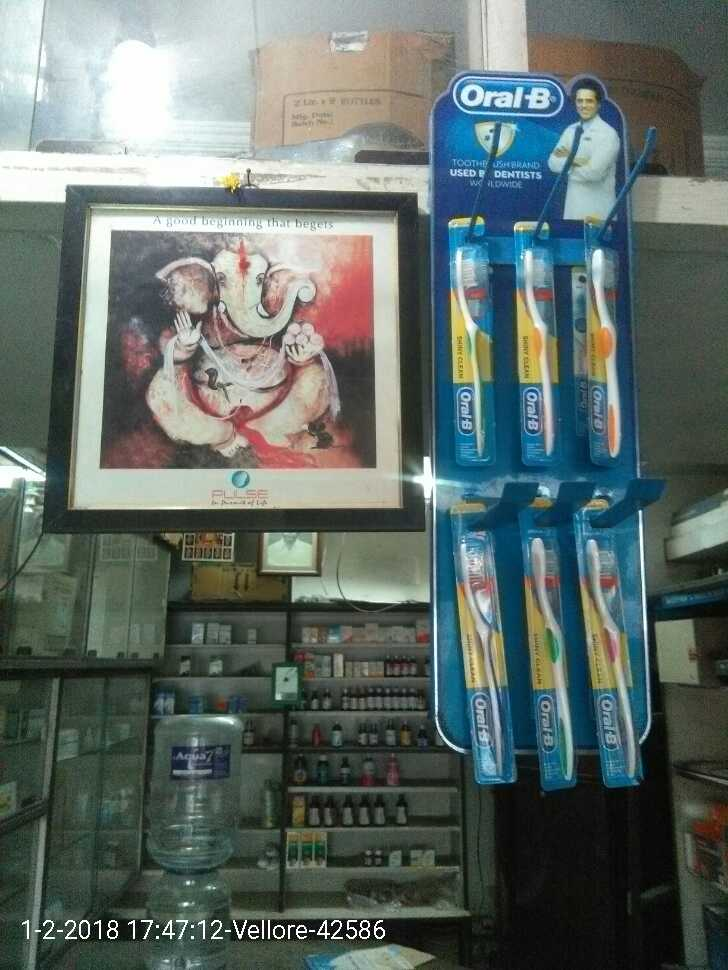oralb: (583, 539, 654, 798), (450, 530, 511, 790), (514, 529, 572, 794), (508, 244, 571, 469), (436, 248, 497, 478), (582, 244, 622, 469)
